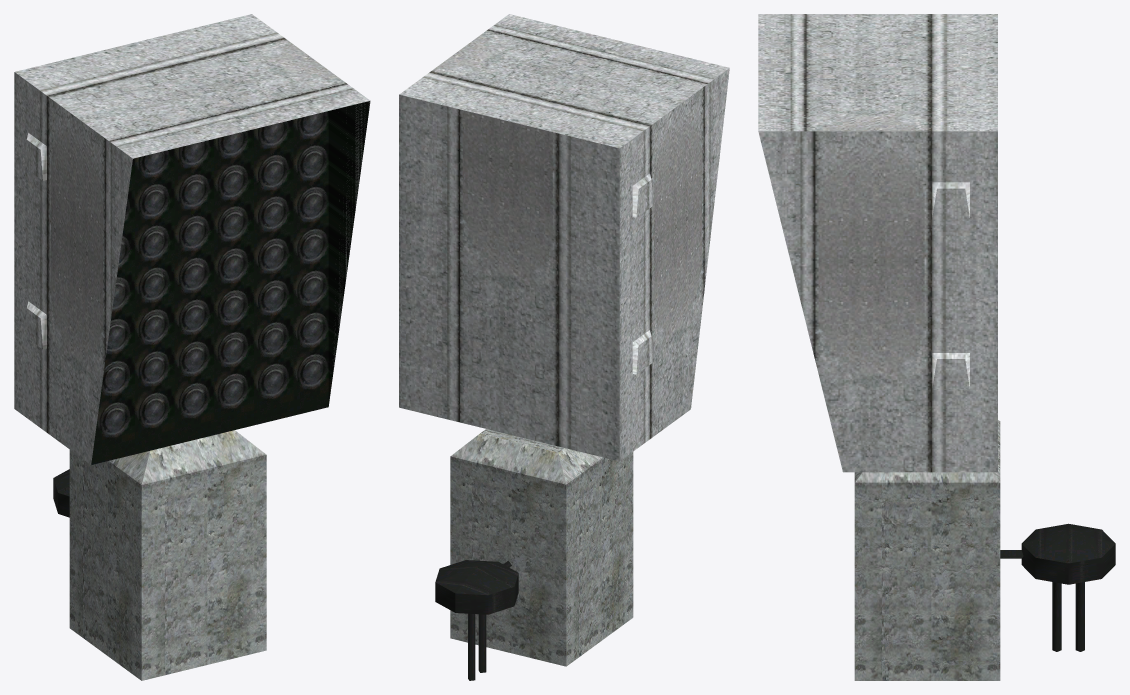
File: route_pointer_small.obj
3 renders of one model, left to right at view 1: azimuth 30°, elevation 25°; view 2: azimuth 150°, elevation 25°; view 3: azimuth 270°, elevation 25°, orthographic. The views are drawn at different scales.
Parts seen in each view (by area): view 1: RoutePointer_0, RoutePointer_1; view 2: RoutePointer_1, RoutePointer_0; view 3: RoutePointer_1, RoutePointer_0.
Part boxes in pixels (x1,y1,x2,y2): RoutePointer_0: [53, 101, 370, 680]; RoutePointer_1: [14, 14, 370, 464]; RoutePointer_1: [399, 14, 729, 461]; RoutePointer_0: [435, 429, 633, 680]; RoutePointer_1: [758, 14, 997, 472]; RoutePointer_0: [854, 420, 1115, 680].
Bounding box in the file's own units: 0.61 × 1.36 × 0.76.
Materials: 2 (2 with a texture image).
